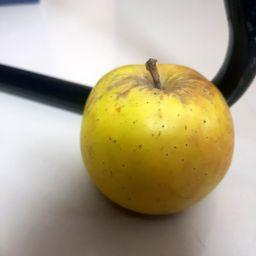apple: (69, 43, 241, 223)
